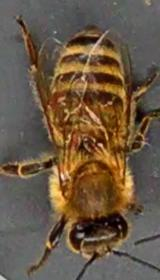varroa_mite: (38, 84, 74, 110)
